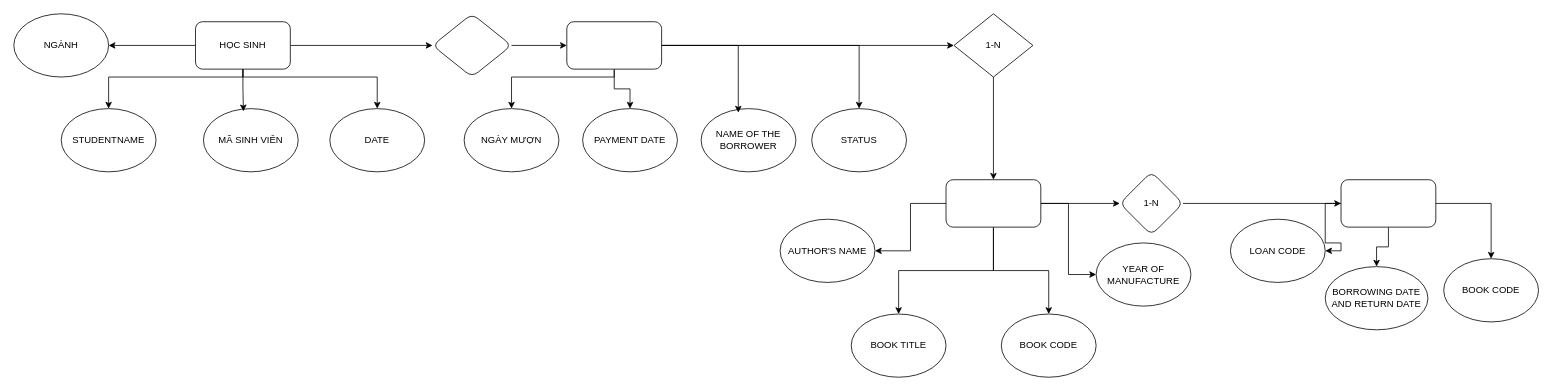
This 1552x391 diagram has some shape labels left out. Here are the shapes that lost their labels. From the top down, the box of each, then its label:
(432, 13, 512, 77): STUDENT-LOANCARD
(566, 21, 662, 69): LOAN_CARD
(945, 179, 1041, 227): BOOKS
(1340, 179, 1436, 227): BORROW_DETAIL
